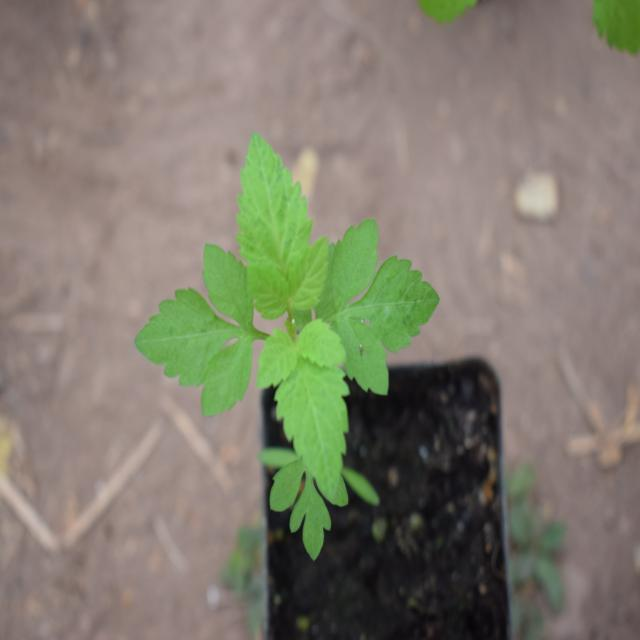Bidens pilosa: (147, 126, 433, 528)
